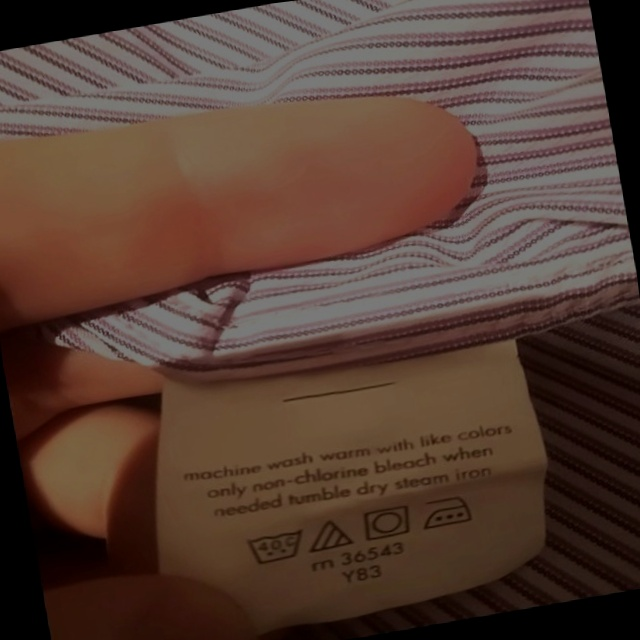40C: (243, 524, 310, 571)
iron_high: (419, 489, 480, 533)
non_chlorine_bleach: (304, 515, 356, 557)
tumble_dry_normal: (360, 503, 418, 545)
